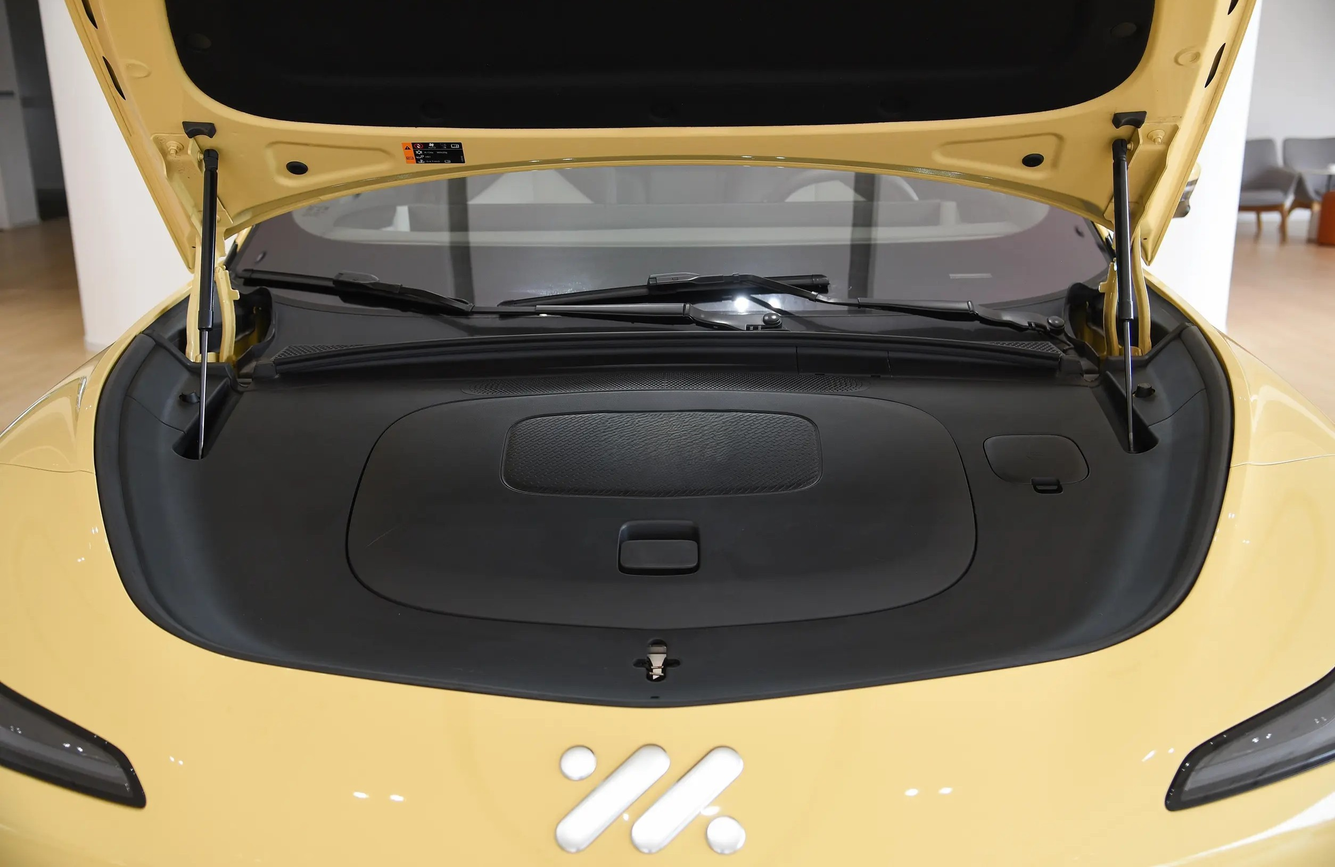IM: (556, 745, 747, 854)
